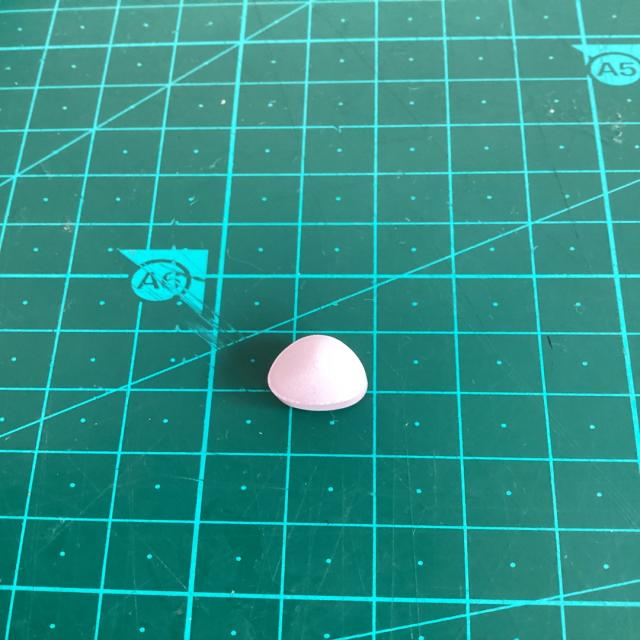-: (253, 328, 385, 425)
